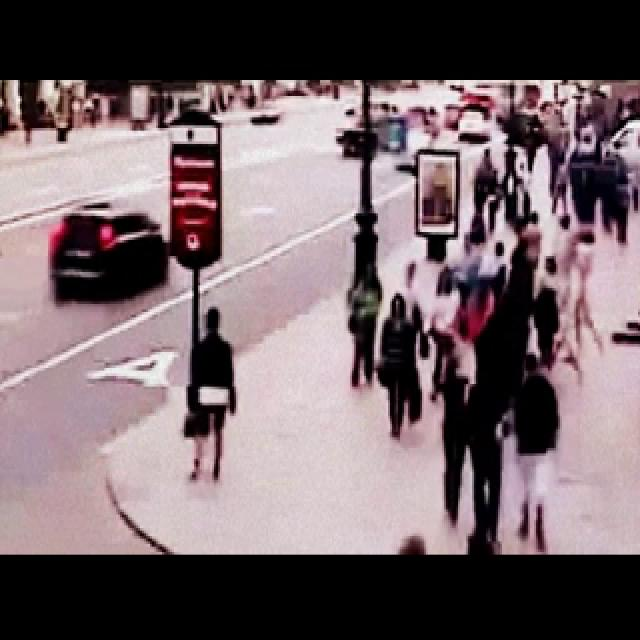road accidents: (332, 72, 475, 249)
